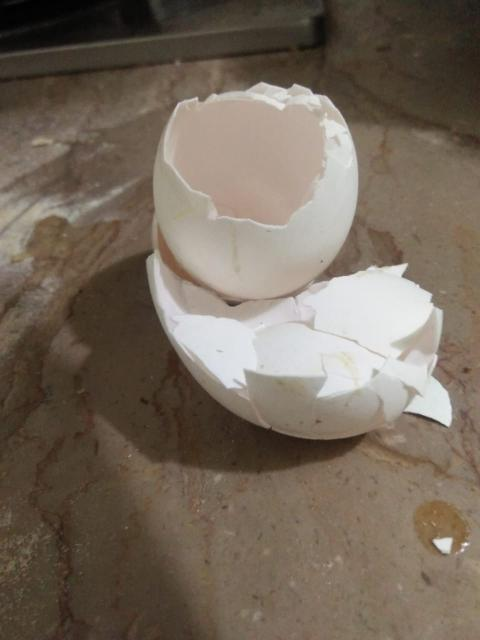Roto: (146, 80, 451, 440)
